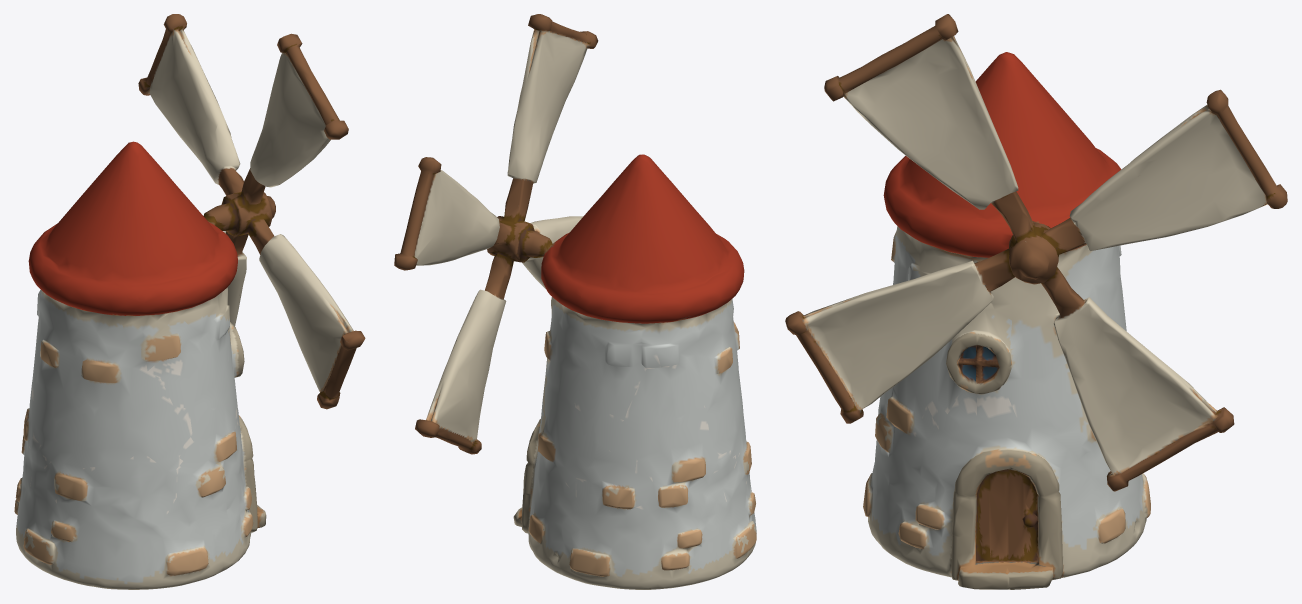
The model's file is windmill.glb.
3 renders of one model, left to right at view 1: azimuth 30°, elevation 25°; view 2: azimuth 150°, elevation 25°; view 3: azimuth 270°, elevation 25°, orthographic. The views are drawn at different scales.
Visible parts, largest first — view 1: tripo_node_4352792c-2f7b-4b70-af4b-48120763931f; view 2: tripo_node_4352792c-2f7b-4b70-af4b-48120763931f; view 3: tripo_node_4352792c-2f7b-4b70-af4b-48120763931f.
Boxes of the visible parts, box(x1,y1,x2,y2) form: tripo_node_4352792c-2f7b-4b70-af4b-48120763931f: box(14, 14, 365, 589); tripo_node_4352792c-2f7b-4b70-af4b-48120763931f: box(394, 14, 756, 589); tripo_node_4352792c-2f7b-4b70-af4b-48120763931f: box(785, 14, 1287, 589).
Size of the model in its own units: 0.5441 by 1 by 0.7772.
Materials: 1 (1 with a texture image).
